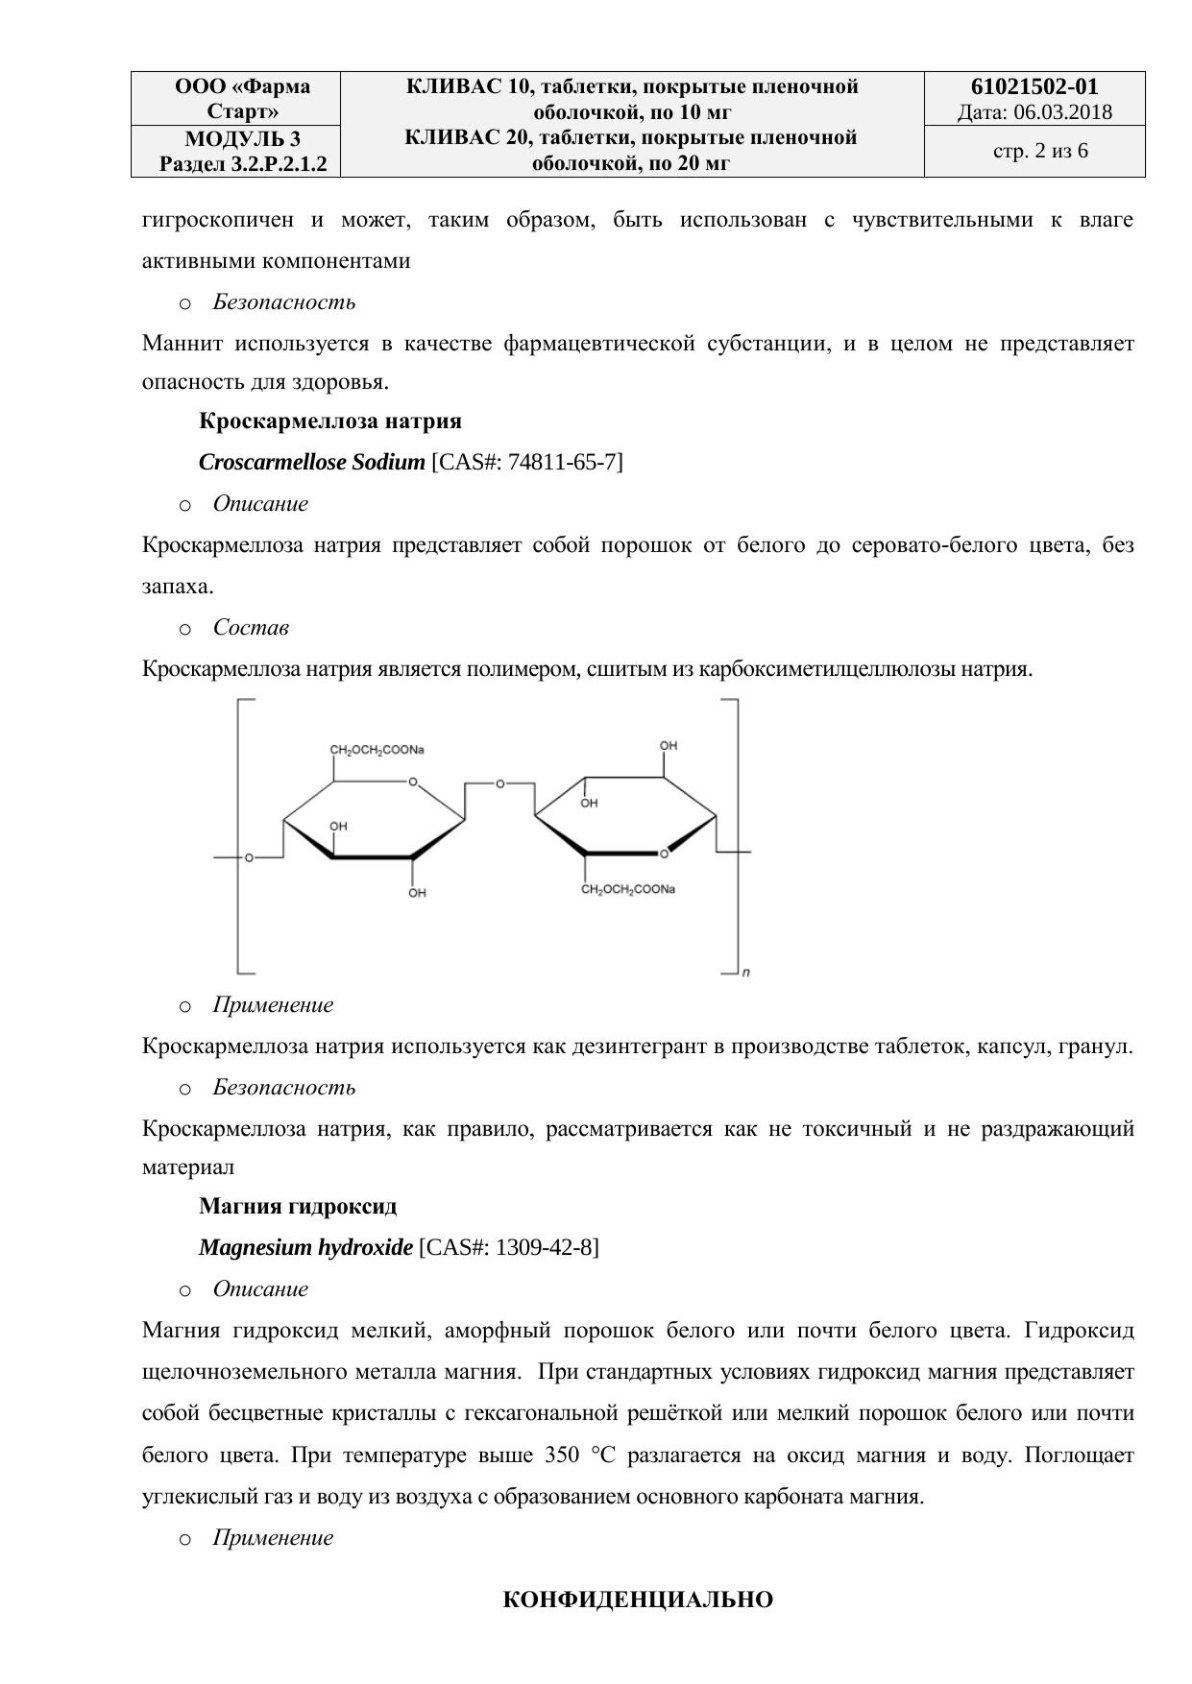merged_cells: (129, 70, 1146, 178)
